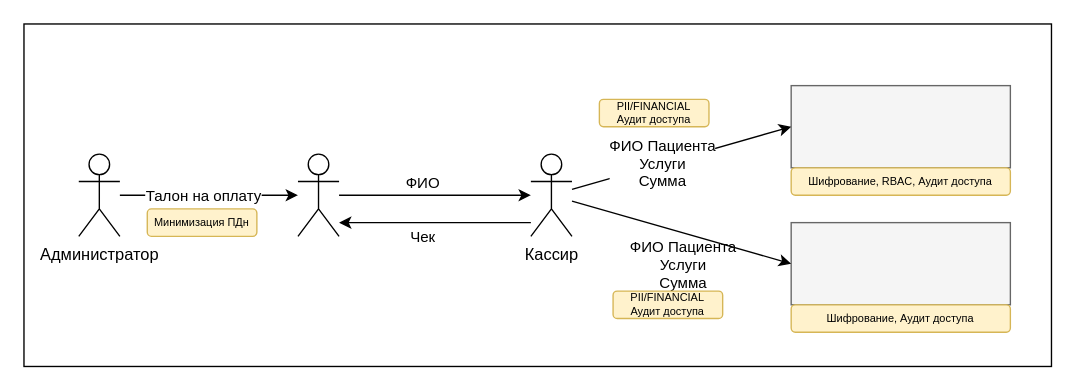
Image size: 1075x390. Some labels were removed from this diagram. Here are the shapes that lost their labels. From the top down, the box of each, then its label:
(790, 84, 1010, 168): 1C Бухгалтерия предприятия
(297, 153, 339, 236): Пациент
(790, 221, 1010, 305): Бухгалтерский учет [Excel]
